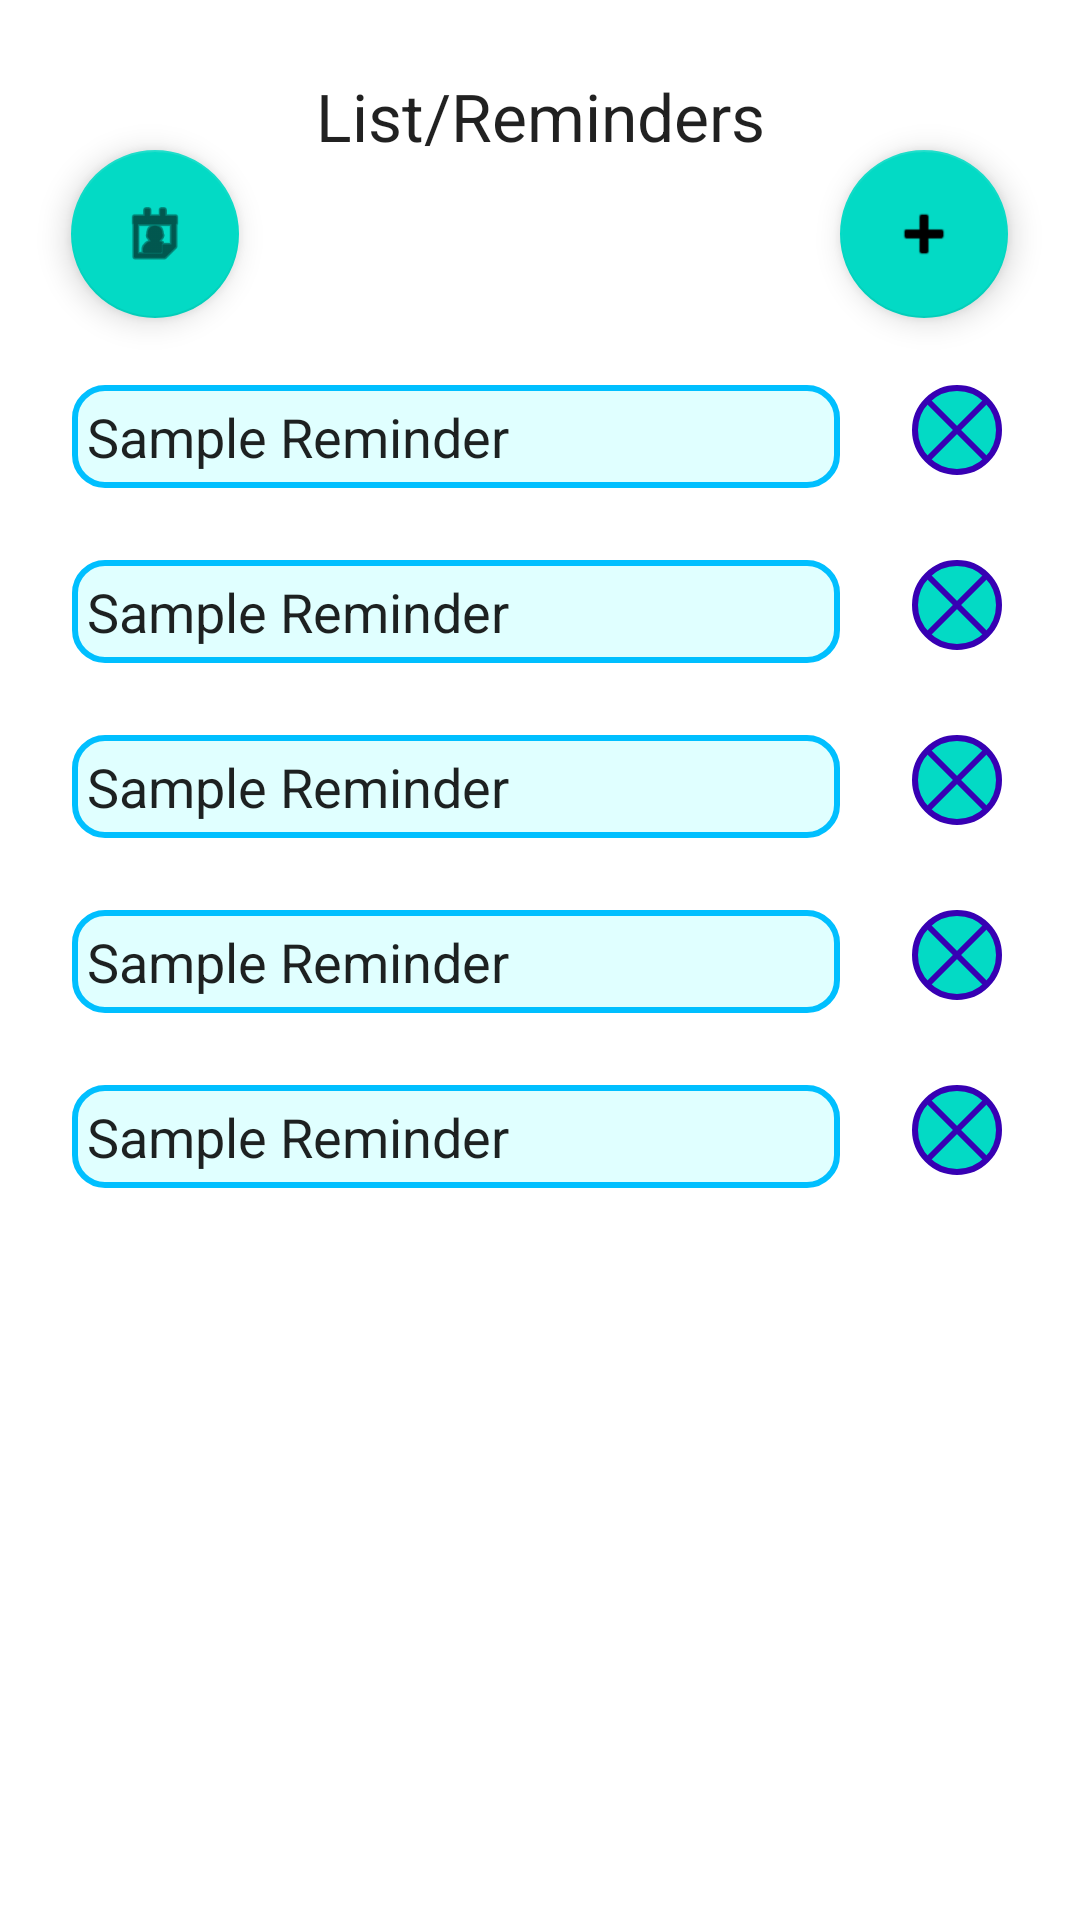

Icon bounding boxes for this 1080x1920 phone screenshot, format bbox=(x1, y1, x2, y2):
add: bbox=(840, 150, 1008, 318)
calendar: bbox=(71, 150, 239, 318)
xshape: bbox=(912, 385, 1002, 475), bbox=(912, 560, 1002, 650), bbox=(912, 735, 1002, 825), bbox=(912, 910, 1002, 1000), bbox=(912, 1085, 1002, 1175)
